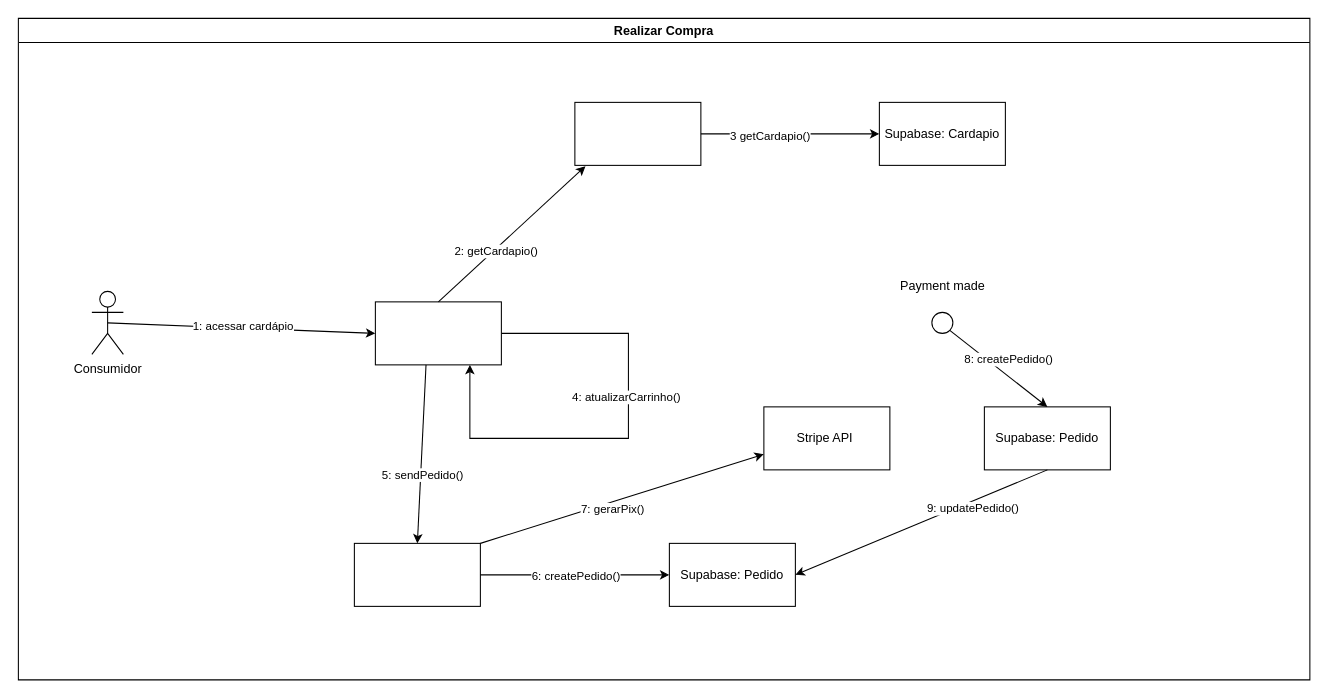
The diagram is 1328 pixels wide and 698 high, and some of its shapes have lost their labels. Each missing label, with the box of its shape:
Pages: Cardapio: (574, 101, 701, 165)
Pages: Pedido: (353, 542, 480, 606)
Pagina de cardápio :UI: (374, 301, 501, 365)
